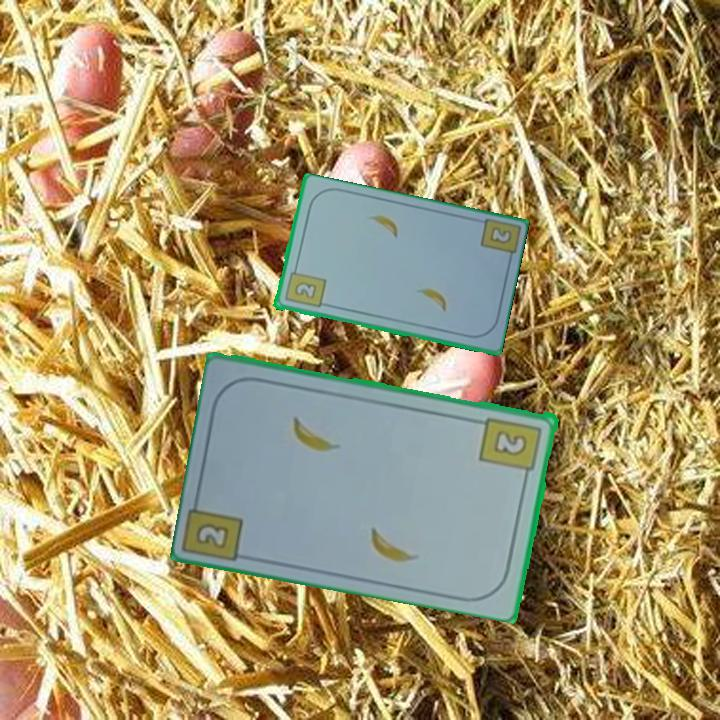2b: (477, 413, 545, 482), (281, 263, 328, 311), (192, 519, 233, 552), (488, 225, 512, 245)
